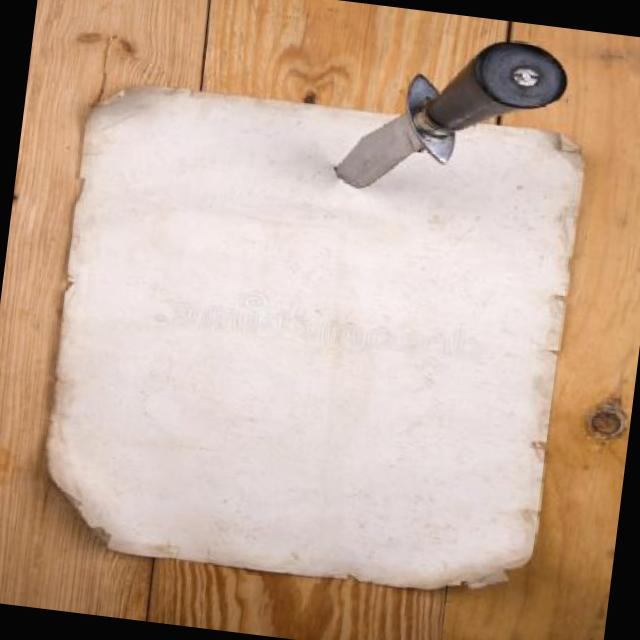knife: (305, 82, 451, 202)
